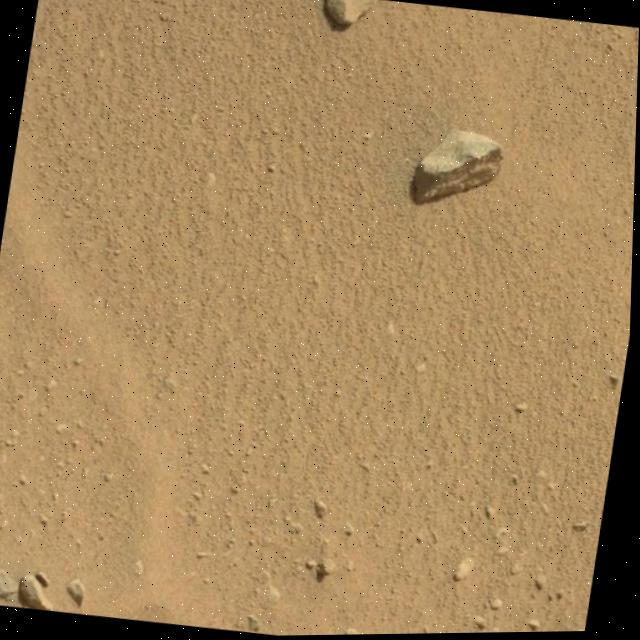mars-rocks: (413, 129, 503, 204), (323, 0, 375, 21)
